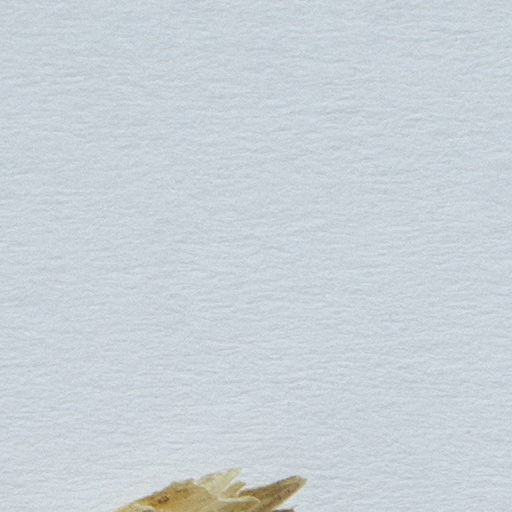Peel-poly: (105, 470, 306, 511)
